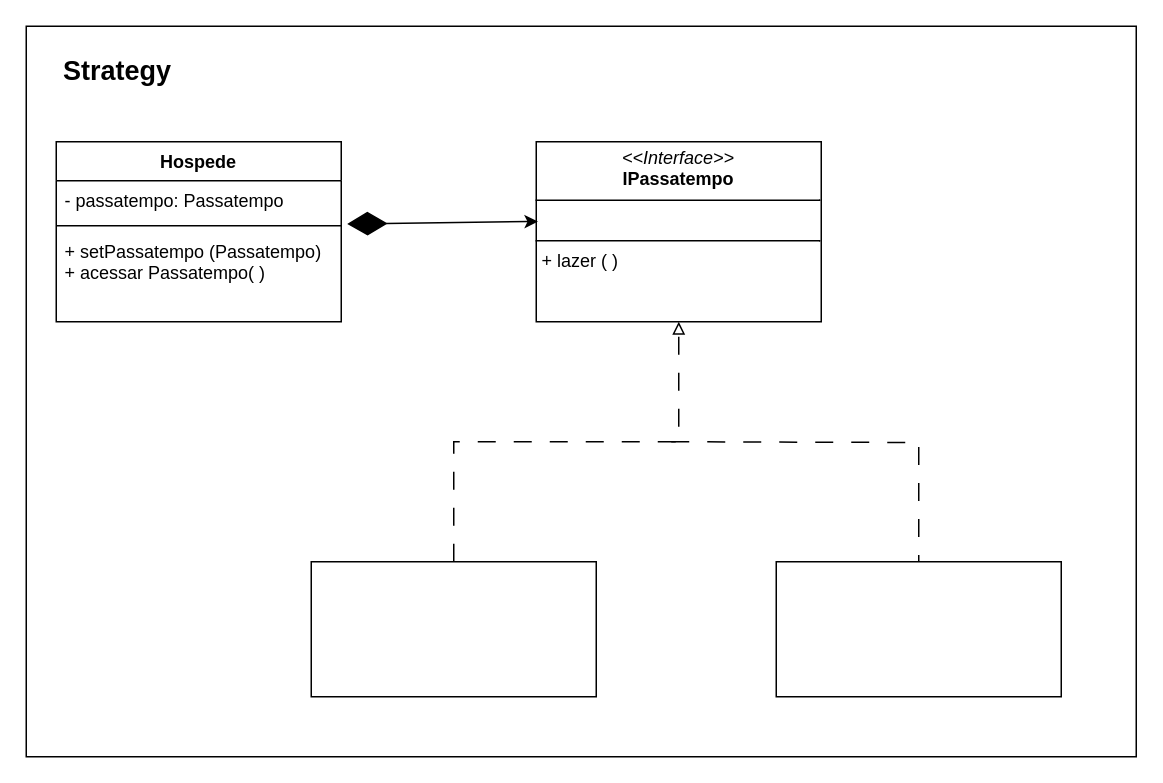
Some shapes in this 1163 by 783 pixel diagram are drawn without their labels. Here are the shapes that lost their labels. From the top down, the centre of each, then its label:
At (453,628): "Piscina + lazer ( )".
At (918,628): "Bilhar + lazer ( )".
